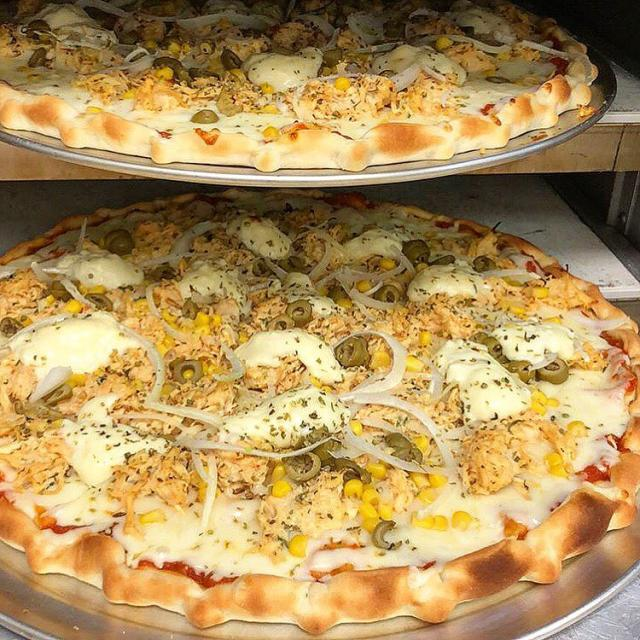green_olives: (286, 450, 322, 484), (335, 333, 370, 365), (171, 353, 203, 388), (299, 428, 333, 460), (375, 516, 403, 554), (333, 455, 369, 484), (539, 357, 570, 389), (86, 288, 115, 319), (104, 232, 134, 257), (48, 280, 74, 307), (220, 46, 245, 73), (484, 336, 507, 365), (285, 300, 315, 322), (509, 360, 532, 387), (1, 316, 25, 340), (473, 252, 497, 276), (404, 241, 428, 265), (46, 385, 70, 408), (192, 108, 221, 126), (378, 282, 399, 306), (116, 30, 144, 48), (151, 262, 177, 281), (268, 317, 295, 332), (156, 58, 184, 72), (189, 70, 217, 84), (183, 298, 199, 322), (392, 431, 410, 452), (31, 49, 49, 70), (396, 449, 420, 464), (30, 18, 52, 34), (322, 48, 344, 64), (252, 256, 267, 279), (434, 255, 457, 268), (292, 255, 306, 274), (330, 284, 347, 298), (174, 71, 188, 88)
pizza: (0, 185, 640, 640), (0, 0, 602, 173)
